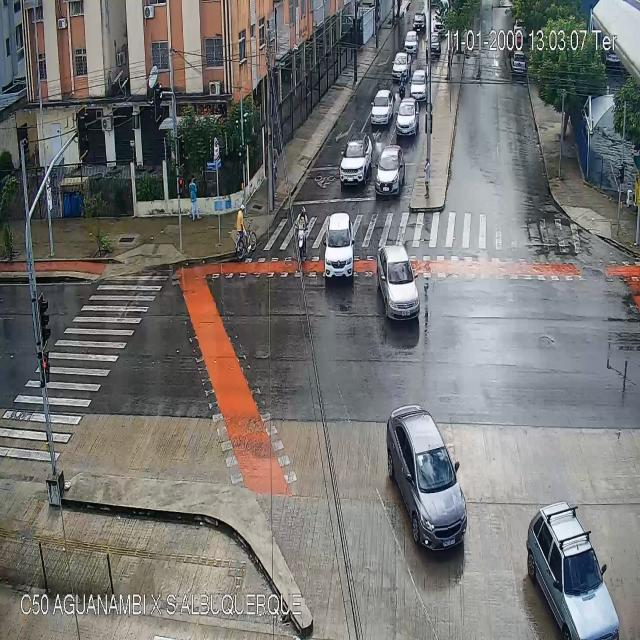Car: (527, 499, 619, 639), (386, 407, 466, 551), (376, 243, 420, 320), (323, 211, 357, 280), (340, 134, 374, 185), (375, 146, 405, 197), (378, 144, 405, 196), (397, 98, 419, 136), (372, 89, 393, 123), (410, 70, 428, 105), (392, 53, 411, 80), (511, 53, 527, 76), (404, 30, 419, 54), (432, 11, 447, 34), (426, 33, 440, 56), (412, 12, 426, 32)
Motorcycle: (294, 206, 309, 266), (399, 71, 405, 100)
